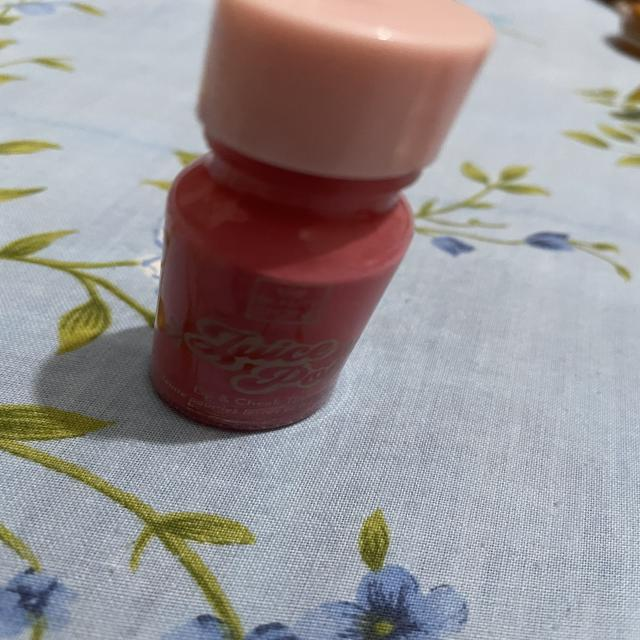Tint: (142, 0, 506, 456)
